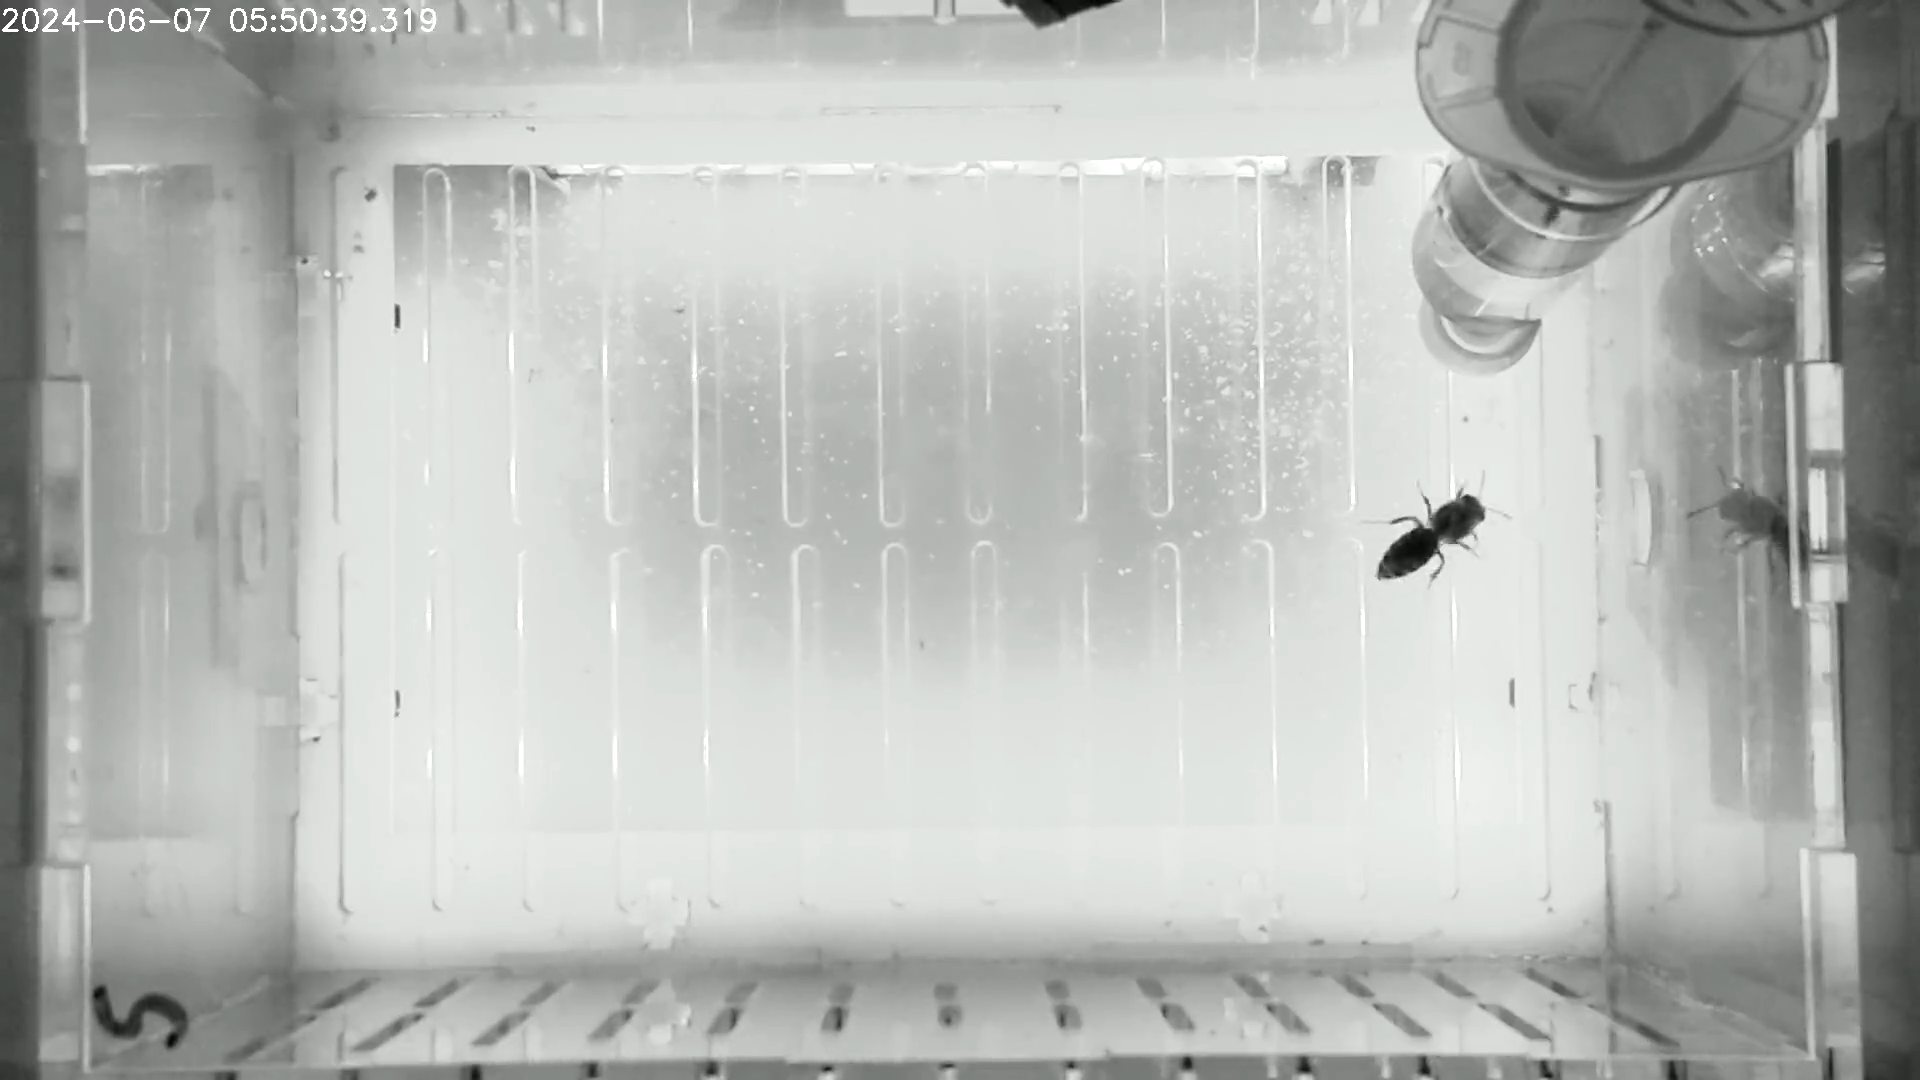bee: (1352, 464, 1517, 600)
feeder: (1403, 135, 1650, 342)
